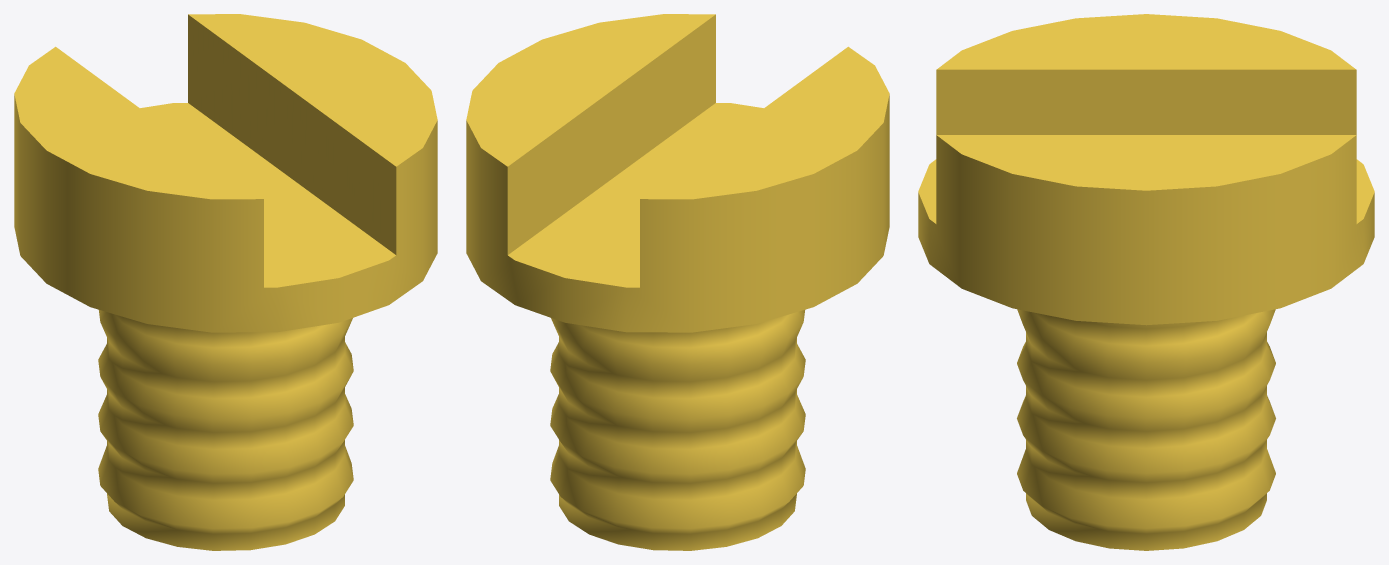
File: goldbolt.fbx
3 views of the same model, side by side, from view 1: azimuth 30°, elevation 25°; view 2: azimuth 150°, elevation 25°; view 3: azimuth 270°, elevation 25° (orthographic).
Visible parts, largest first — view 1: bolt; view 2: bolt; view 3: bolt.
Part boxes in pixels (x1,y1,x2,y2): bolt: (14, 14, 437, 550); bolt: (466, 14, 889, 550); bolt: (918, 14, 1374, 550).
Bounding box in the file's own units: 129 × 139 × 141.
